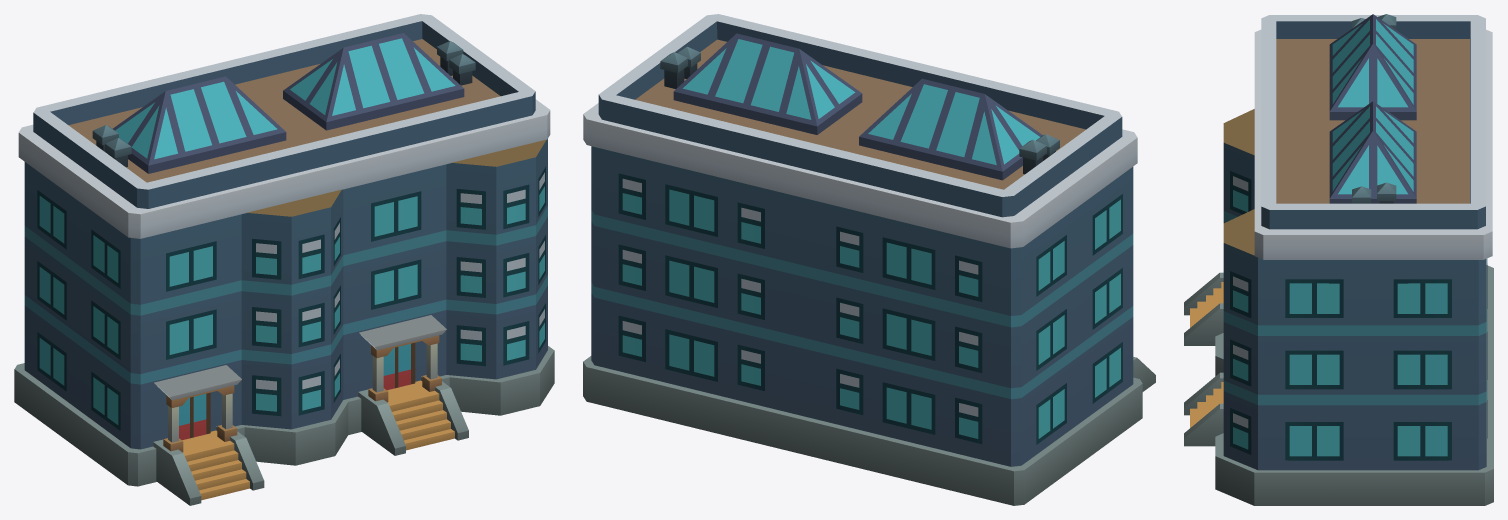
Rendered from Building_cartoon_31.fbx.
3 renders of one model, left to right at view 1: azimuth 30°, elevation 25°; view 2: azimuth 150°, elevation 25°; view 3: azimuth 270°, elevation 25°, orthographic. The views are drawn at different scales.
Parts seen in each view (by area): view 1: Building_cartoon_31; view 2: Building_cartoon_31; view 3: Building_cartoon_31.
Part boxes in pixels (x1,y1,x2,y2): Building_cartoon_31: (14, 14, 554, 505); Building_cartoon_31: (583, 14, 1155, 505); Building_cartoon_31: (1184, 14, 1493, 505).
Size of the model in its own units: 2086 by 1547 by 1315.
